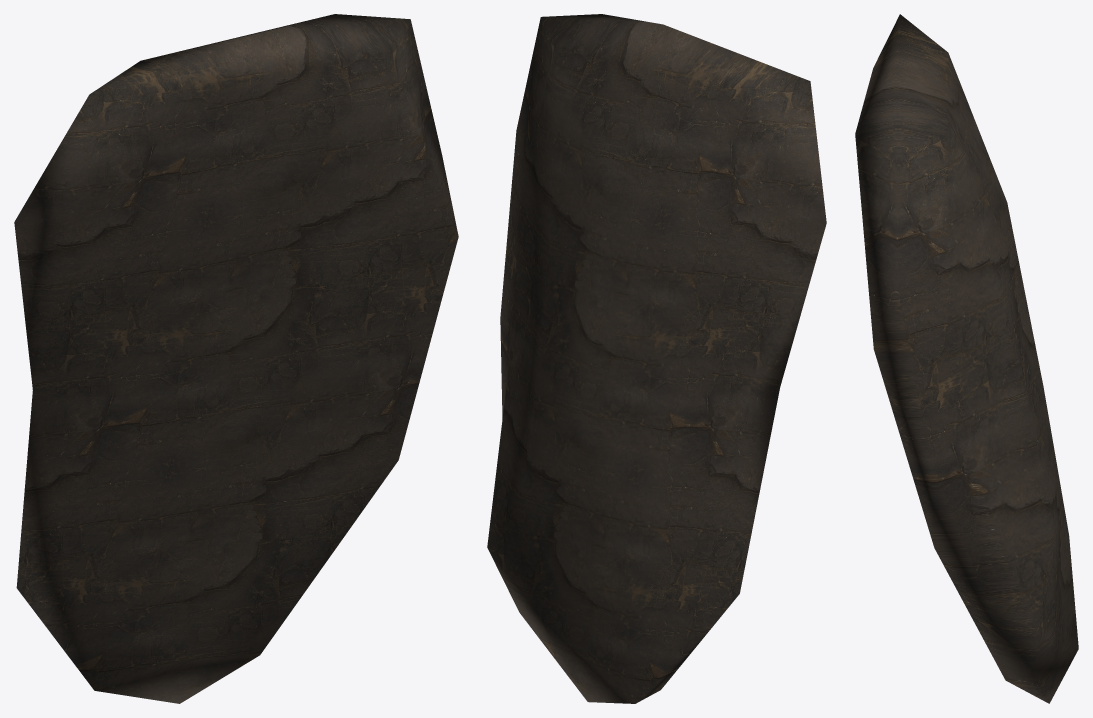
Rendered from cliff_slab_a_lod3.gltf.
3 views of the same model, side by side, from view 1: azimuth 30°, elevation 25°; view 2: azimuth 150°, elevation 25°; view 3: azimuth 270°, elevation 25° (orthographic). The views are drawn at different scales.
Parts seen in each view (by area): view 1: cliff_slab_a_LOD3; view 2: cliff_slab_a_LOD3; view 3: cliff_slab_a_LOD3.
Part boxes in pixels (left/top/right/bottom): cliff_slab_a_LOD3: left=14, top=14, right=458, bottom=703; cliff_slab_a_LOD3: left=487, top=14, right=826, bottom=703; cliff_slab_a_LOD3: left=855, top=14, right=1078, bottom=703.
Bounding box in the file's own units: 12.51 × 22 × 7.03.
Materials: 1 (1 with a texture image).
